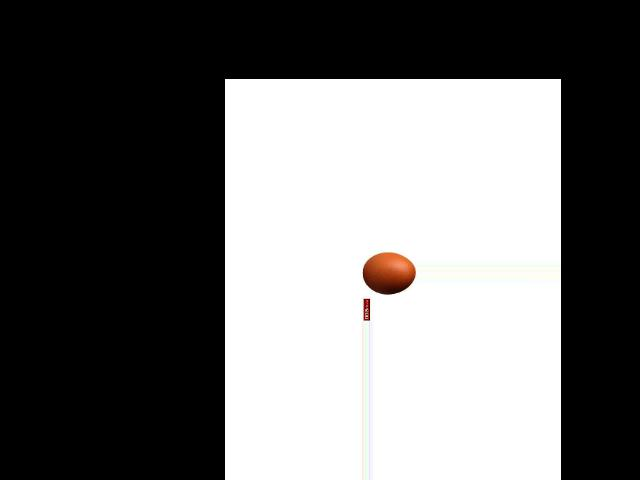egg: (362, 252, 414, 293)
